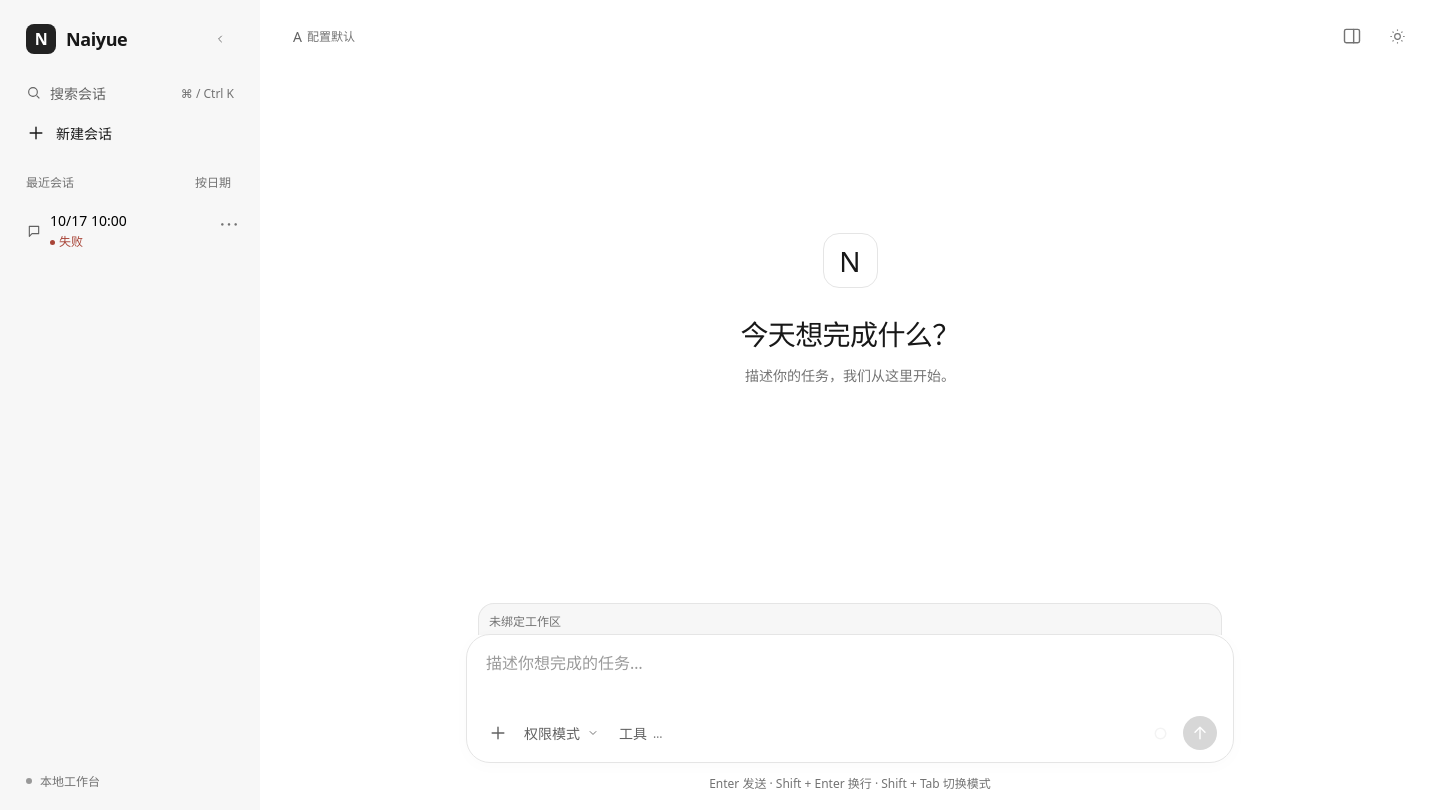
Test case: keeps confirmed recovery usable when only the sidebar refresh fails
The width and height of the screenshot is (1440, 810).
Check: the element named "任务状态：失败" is shown, box left=50, top=233, right=83, bottom=251
Click the button with aria-label " A": (130, 231) left=14, top=202, right=246, bottom=260
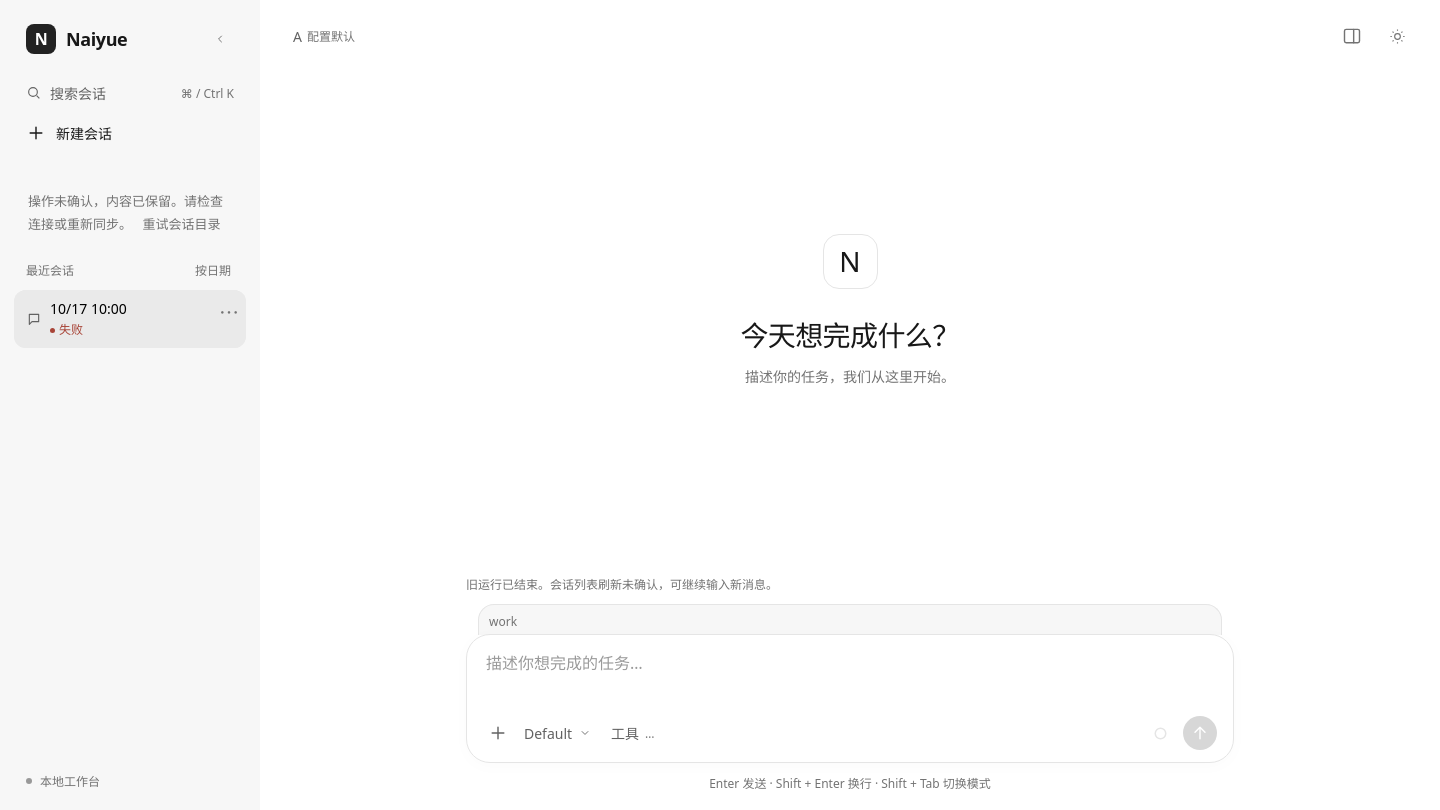
Check: the text "旧运行已结束。会话列表刷新未确认，可继续输入新消息。" is shown, box left=466, top=575, right=778, bottom=593
In the text box named "消息": (850, 676) left=483, top=650, right=1217, bottom=703, type "new draft"
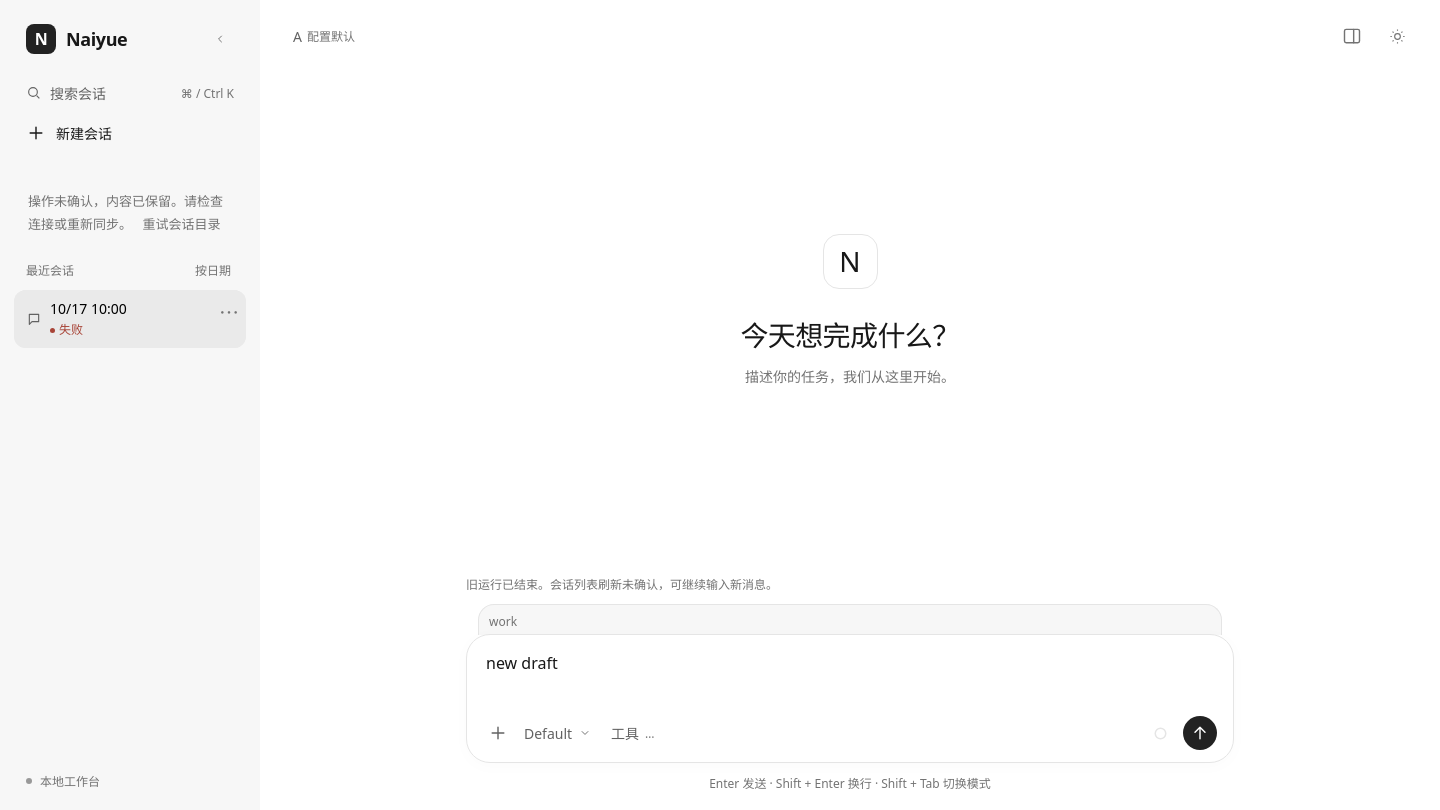
Check: the button named "发送消息" is enabled, box left=1183, top=716, right=1217, bottom=750
